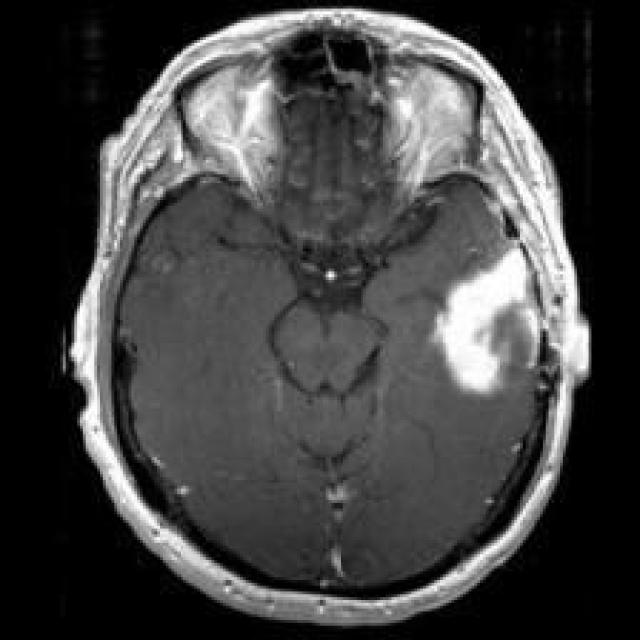Tumor: (437, 249, 532, 394)
